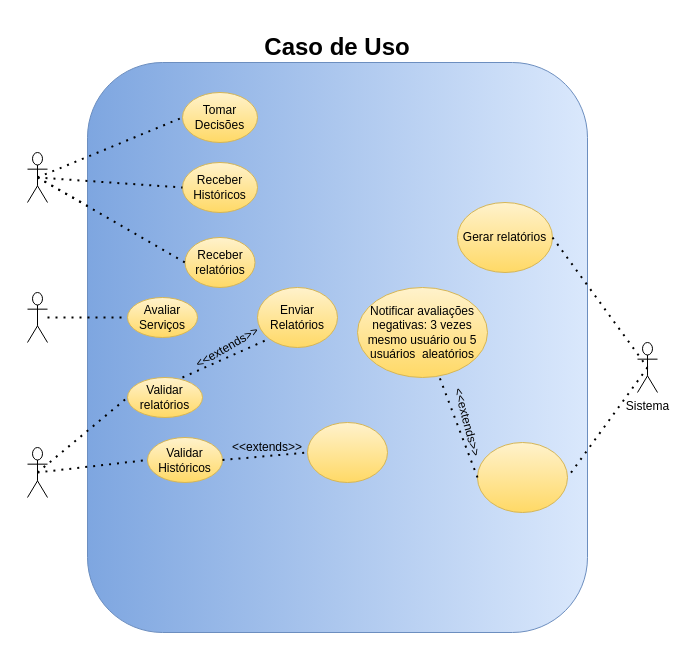
Some shapes in this 686 by 650 pixel diagram are drawn without their labels. Each missing label, with the box of its shape:
Diretor: (26, 152, 48, 202)
Enviar Históricos: (306, 422, 388, 482)
Gerar Histórico: (476, 442, 568, 512)
RH: (26, 446, 48, 498)
Usuário: (26, 292, 48, 342)
